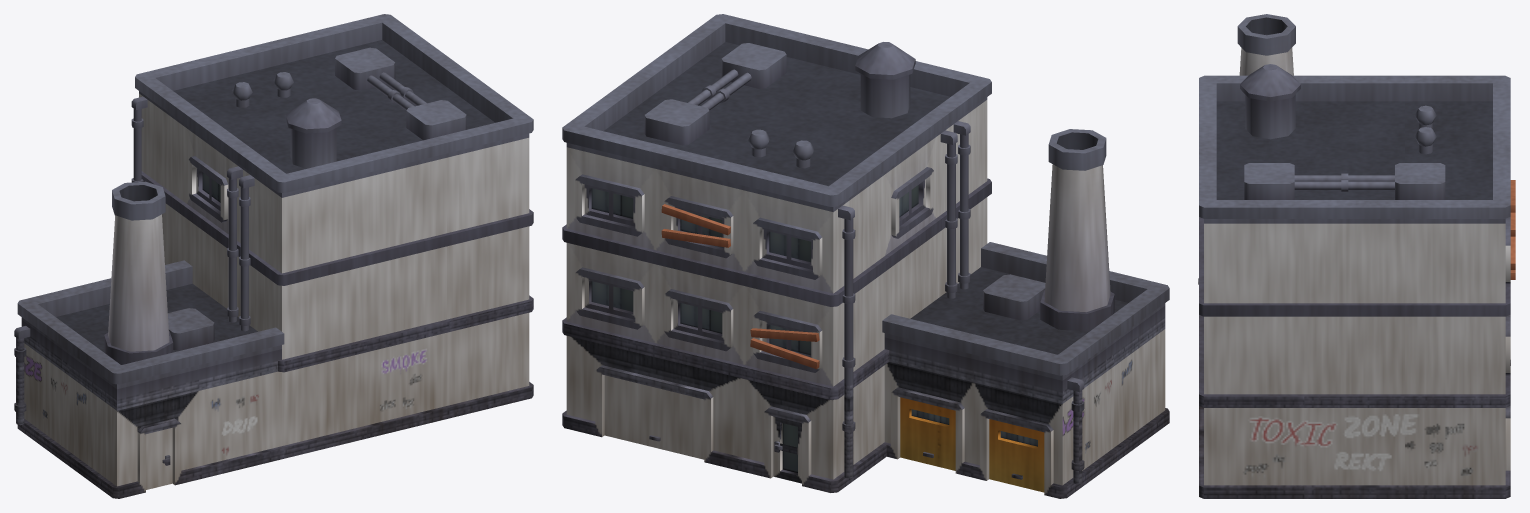
Rendered from building-b-white-scuffed.glb.
The picture shows the model from 3 angles, left to right: view 1: azimuth 30°, elevation 25°; view 2: azimuth 150°, elevation 25°; view 3: azimuth 270°, elevation 25°; orthographic projection. The views are drawn at different scales.
Parts seen in each view (by area): view 1: building-b; view 2: building-b; view 3: building-b.
Boxes of the visible parts, left/top/right/bottom form: building-b: left=14, top=14, right=533, bottom=498; building-b: left=562, top=14, right=1169, bottom=498; building-b: left=1198, top=14, right=1515, bottom=498.
Bounding box in the file's own units: 2.08 × 1.47 × 1.26.
1 material, 1 textured.
